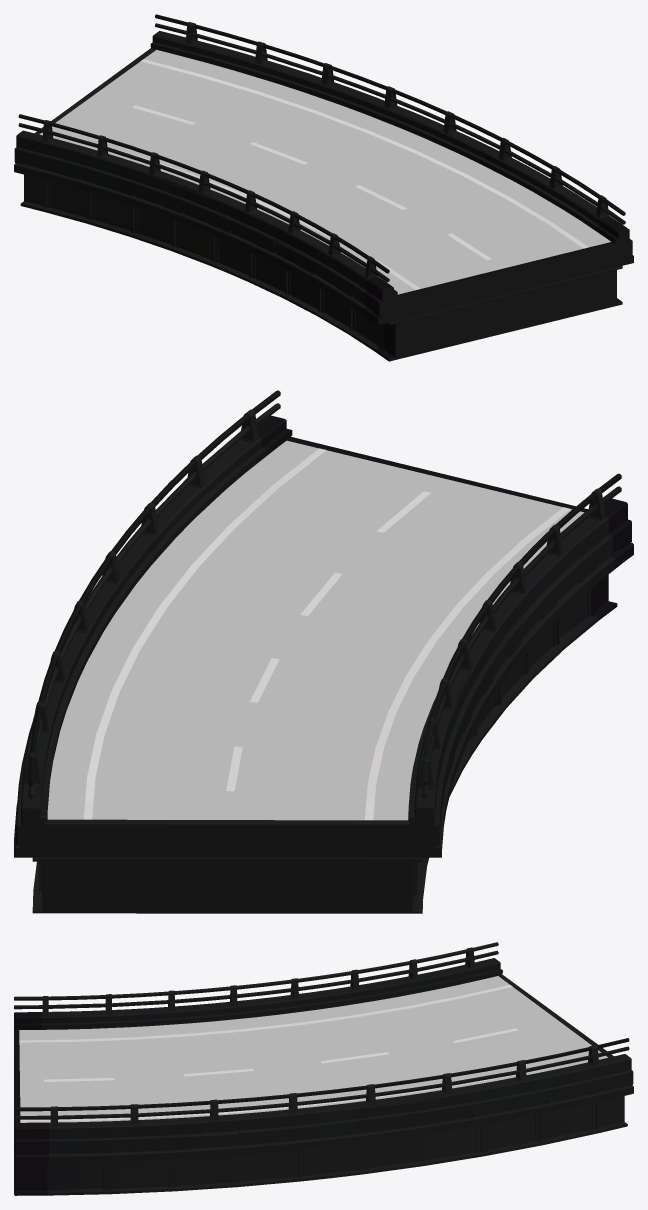
Rendered from Highway_Segment07.fbx.
3 views of the same model, one above another, from view 1: azimuth 30°, elevation 25°; view 2: azimuth 150°, elevation 25°; view 3: azimuth 270°, elevation 25° (orthographic). The views are drawn at different scales.
Visible parts, largest first — view 1: SM_City_Highway_Segment_04b.mo; view 2: SM_City_Highway_Segment_04b.mo; view 3: SM_City_Highway_Segment_04b.mo.
Boxes of the visible parts, bbox=[...] form: SM_City_Highway_Segment_04b.mo: bbox=[14, 14, 633, 361]; SM_City_Highway_Segment_04b.mo: bbox=[14, 390, 633, 913]; SM_City_Highway_Segment_04b.mo: bbox=[14, 942, 633, 1195].
Size of the model in its own units: 1434 by 342 by 2156.
